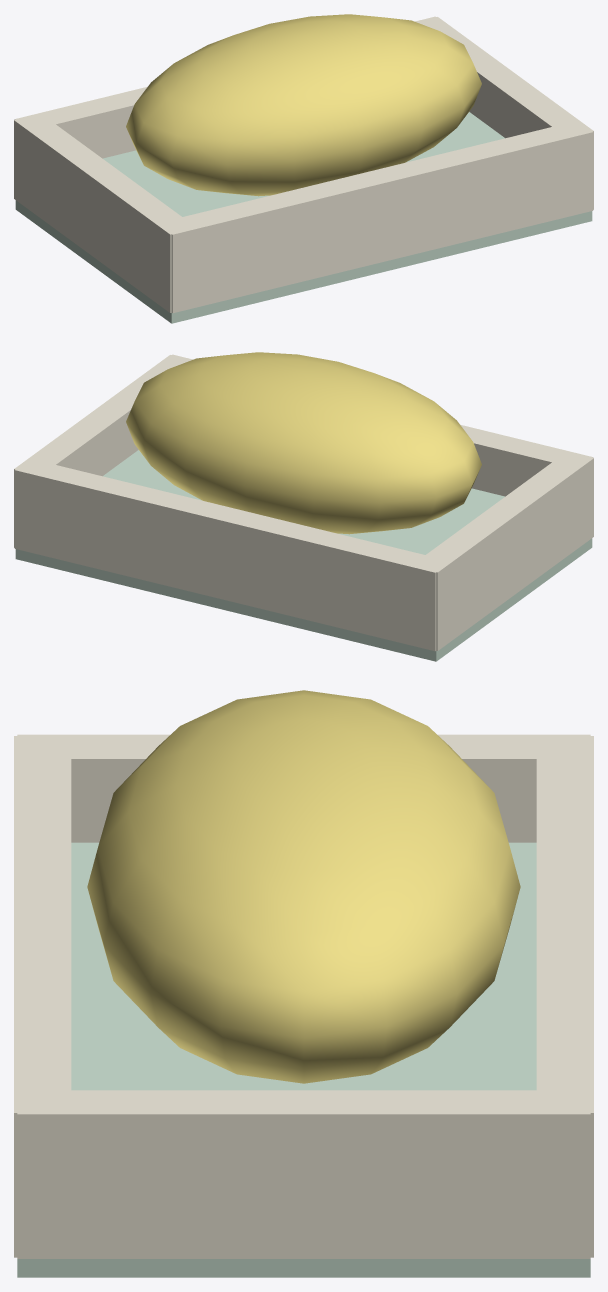
File: soapDish.glb
The picture shows the model from 3 angles, top to bottom: view 1: azimuth 30°, elevation 25°; view 2: azimuth 150°, elevation 25°; view 3: azimuth 270°, elevation 25°; orthographic projection. The views are drawn at different scales.
Parts seen in each view (by area): view 1: 肥皂盒边 (×4), 淡黄色肥皂, 肥皂盒底; view 2: 肥皂盒边 (×4), 淡黄色肥皂, 肥皂盒底; view 3: 肥皂盒边 (×4), 淡黄色肥皂, 肥皂盒底.
Part boxes in pixels (x1,y1,x2,y2): 肥皂盒边 (×4): (14,16,593,313); 淡黄色肥皂: (126,14,481,196); 肥皂盒底: (15,112,592,323); 肥皂盒边 (×4): (14,354,593,651); 淡黄色肥皂: (126,352,481,534); 肥皂盒底: (15,450,592,661); 肥皂盒边 (×4): (14,734,593,1258); 淡黄色肥皂: (87,690,520,1083); 肥皂盒底: (17,842,590,1277).
Size of the model in its own units: 0.141 by 0.057 by 0.091.
